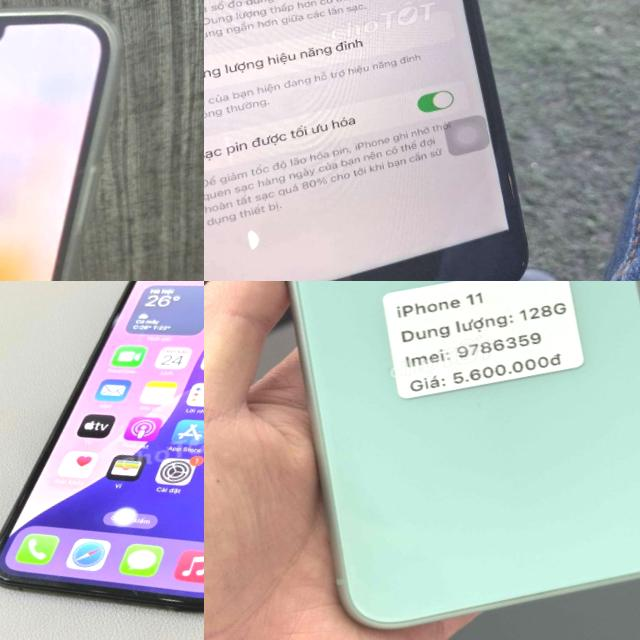gen_11: (205, 281, 640, 640)
gen_12_13: (0, 0, 204, 281)
gen_7_8: (204, 0, 548, 281)
gen_x_xs: (0, 281, 204, 610)
screen_defect: (238, 220, 263, 256)
